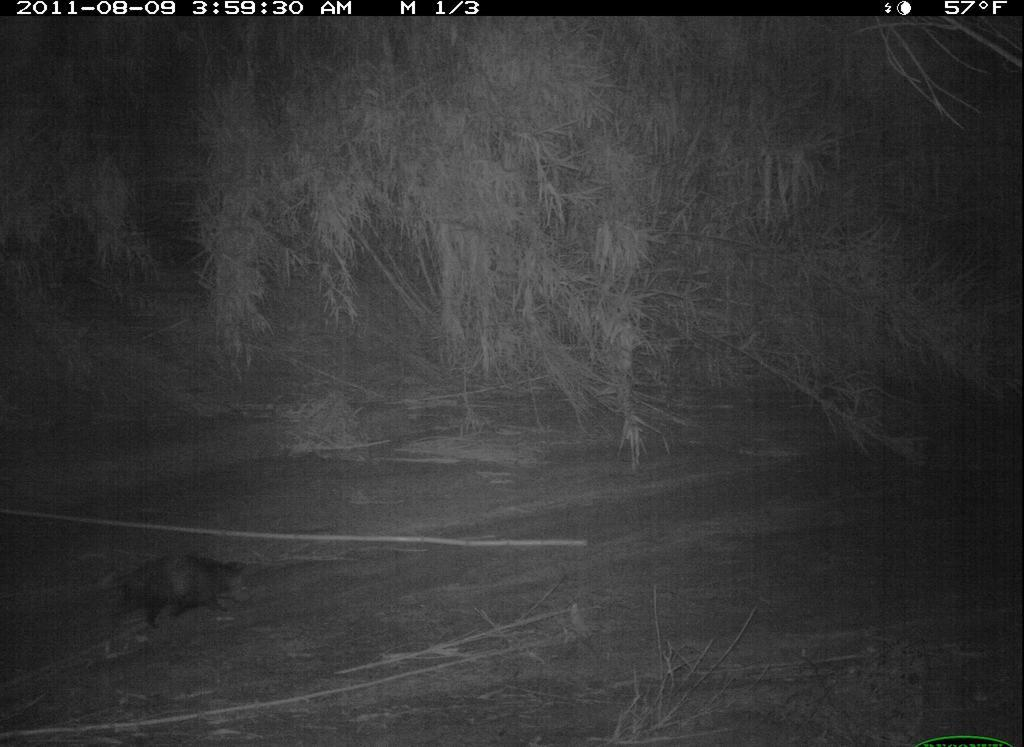opossum: (88, 532, 274, 644)
